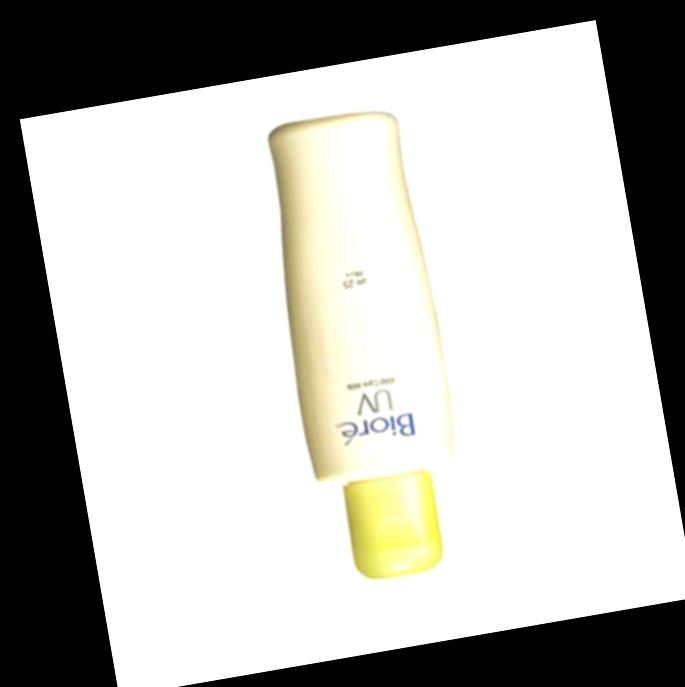cosmetic: (252, 103, 480, 592)
